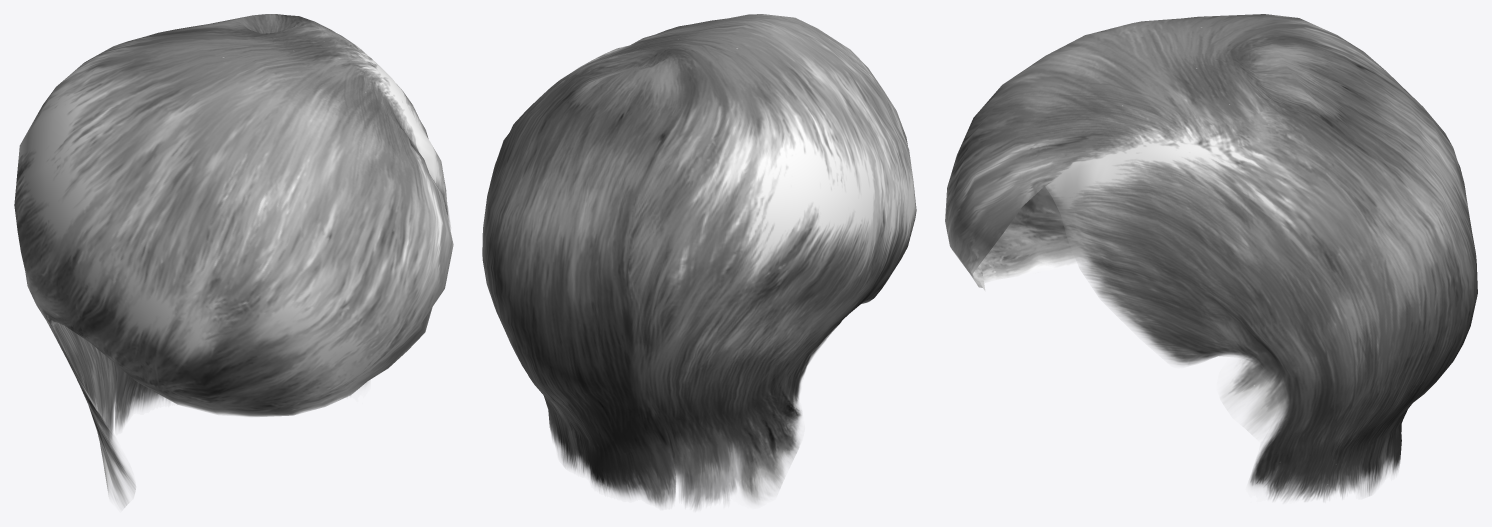
Rendered from hair_short03.gltf.
The picture shows the model from 3 angles, left to right: view 1: azimuth 30°, elevation 25°; view 2: azimuth 150°, elevation 25°; view 3: azimuth 270°, elevation 25°; orthographic projection. The views are drawn at different scales.
Parts seen in each view (by area): view 1: hair_short03; view 2: hair_short03; view 3: hair_short03.
Part boxes in pixels (left/top/right/bottom): hair_short03: left=14, top=14, right=453, bottom=508; hair_short03: left=482, top=14, right=916, bottom=508; hair_short03: left=945, top=14, right=1477, bottom=500.
Bounding box in the file's own units: 0.1732 × 0.2058 × 0.2191.
1 material, 1 textured.
